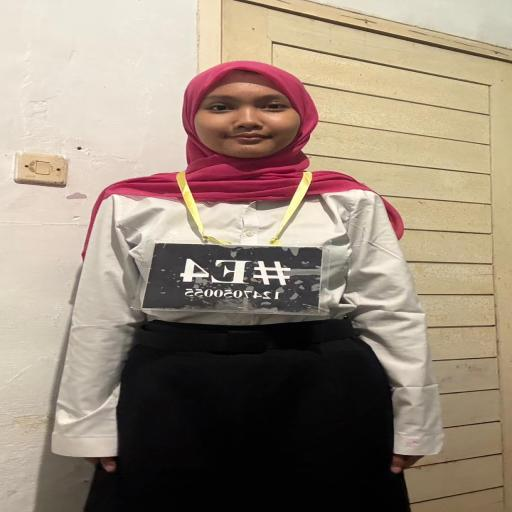kemeja_benar: (76, 186, 422, 326)
kerudung_benar: (148, 56, 369, 208)
nametag_ada: (148, 181, 336, 318)
rok_benar: (101, 352, 402, 512)
sabuk_ada: (114, 313, 369, 359)
